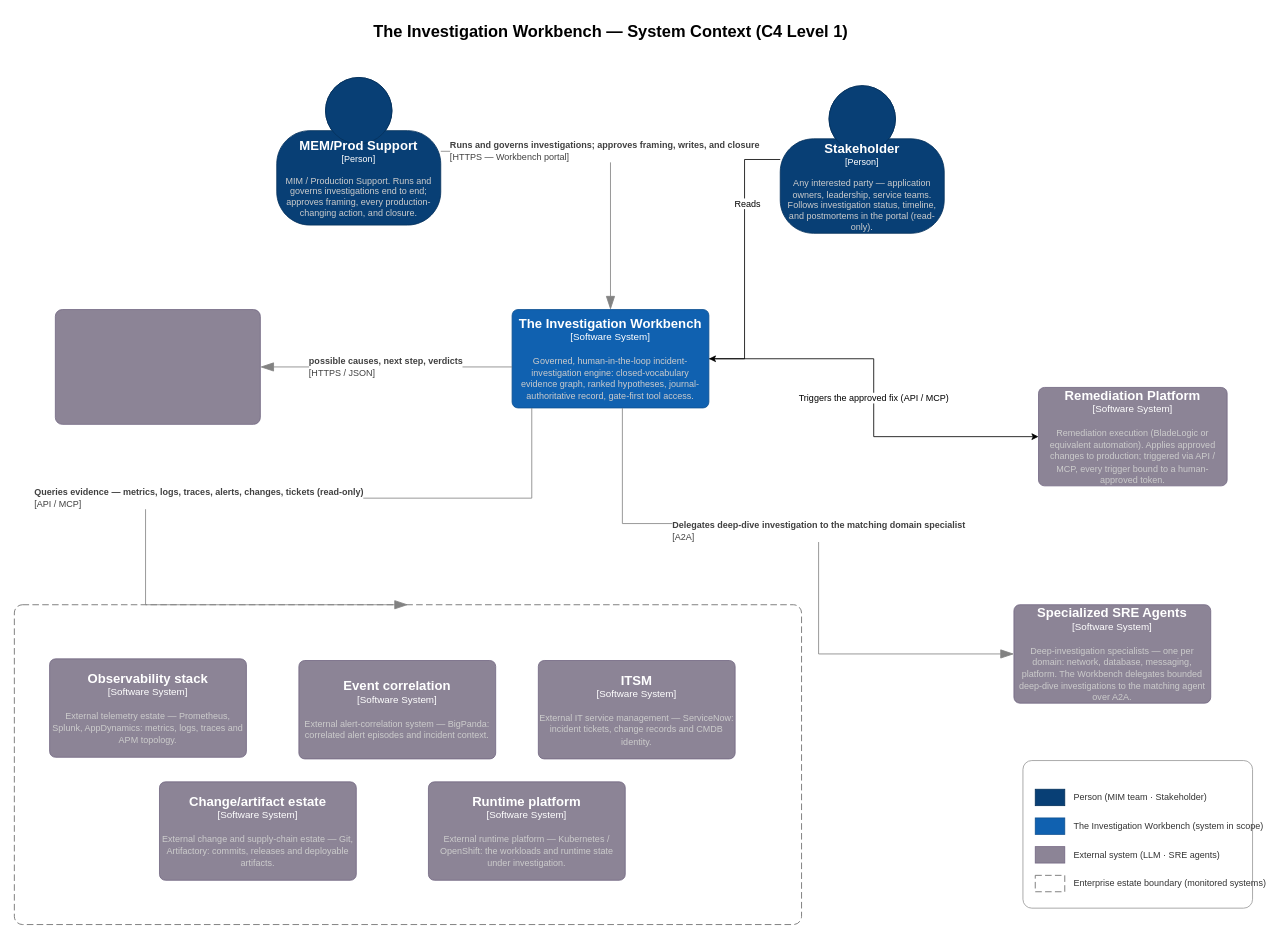
The diagram is 1281 pixels wide and 939 high, and some of its shapes have lost their labels. The shapes that lost their labels are listed below. From the top down, each one's box as (x1, y1, x2, y2) in pixels, then its label:
(55, 309, 260, 424): Tachyon [Software System] LLM platform
(14, 604, 802, 925): Enterprise estate [SystemScopeBoundary]
(1022, 760, 1253, 908): Legend
